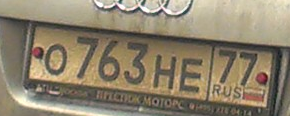character: (74, 36, 99, 82), (124, 39, 147, 86), (99, 36, 121, 85), (153, 55, 176, 94), (180, 58, 203, 96), (44, 41, 68, 77), (218, 47, 237, 89), (238, 49, 258, 88)
